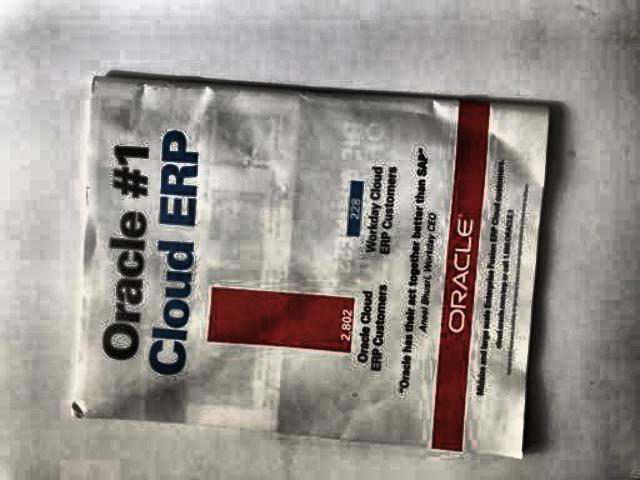Paper: (66, 53, 535, 467)
